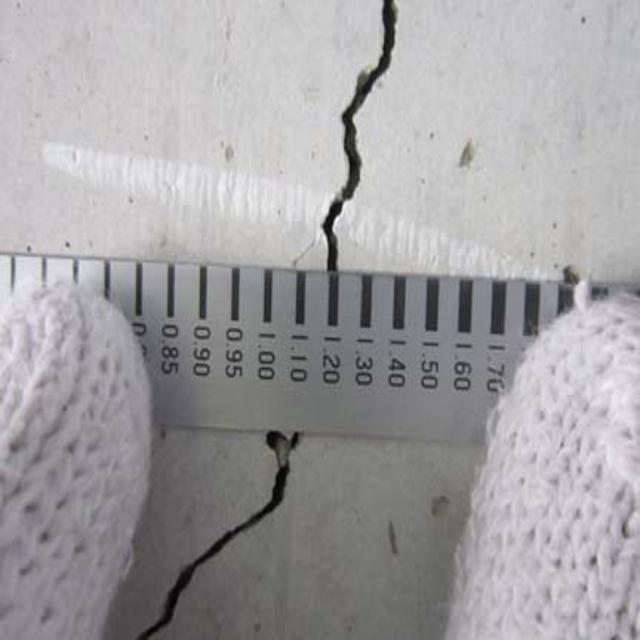crack: (140, 420, 304, 640), (304, 4, 403, 274)
